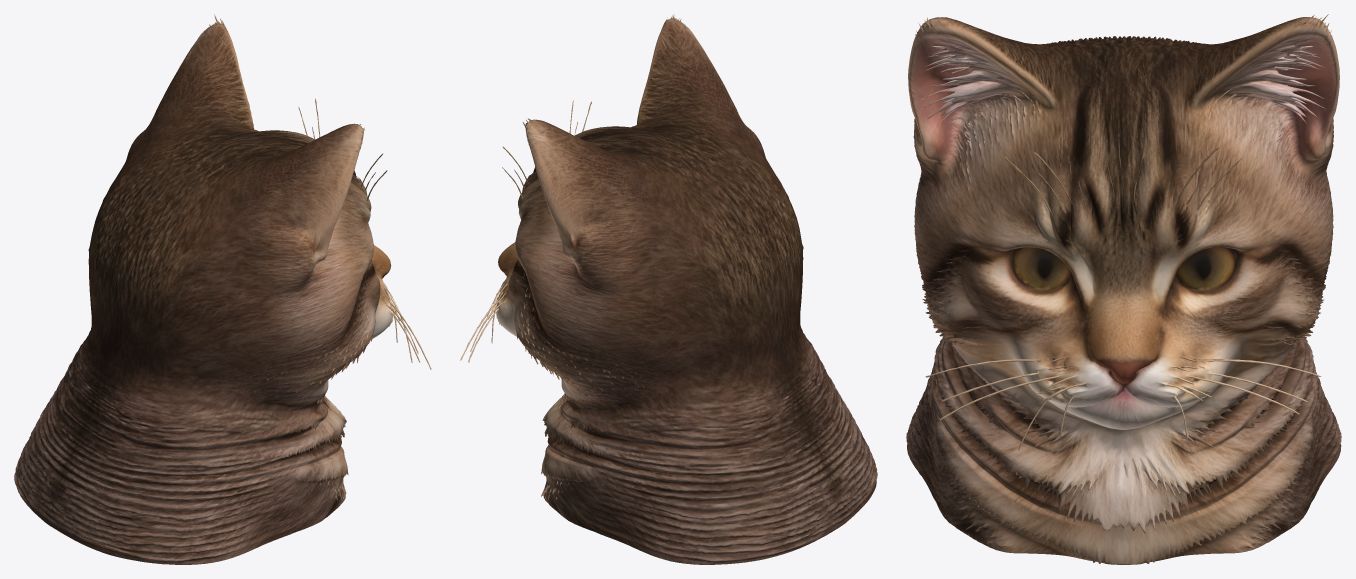
The model's file is cute-cat.glb.
3 renders of one model, left to right at view 1: azimuth 30°, elevation 25°; view 2: azimuth 150°, elevation 25°; view 3: azimuth 270°, elevation 25°, orthographic. The views are drawn at different scales.
Visible parts, largest first — view 1: tripo_node_db4ab549-4cce-40f4-b4d7-ad40d44aed0e; view 2: tripo_node_db4ab549-4cce-40f4-b4d7-ad40d44aed0e; view 3: tripo_node_db4ab549-4cce-40f4-b4d7-ad40d44aed0e.
Boxes of the visible parts, x1,y1,x2,y2 form: tripo_node_db4ab549-4cce-40f4-b4d7-ad40d44aed0e: (14, 14, 431, 564); tripo_node_db4ab549-4cce-40f4-b4d7-ad40d44aed0e: (460, 14, 877, 564); tripo_node_db4ab549-4cce-40f4-b4d7-ad40d44aed0e: (906, 14, 1341, 564).
Bounding box in the file's own units: 0.8797 × 0.9801 × 0.7277.
1 material, 1 textured.
